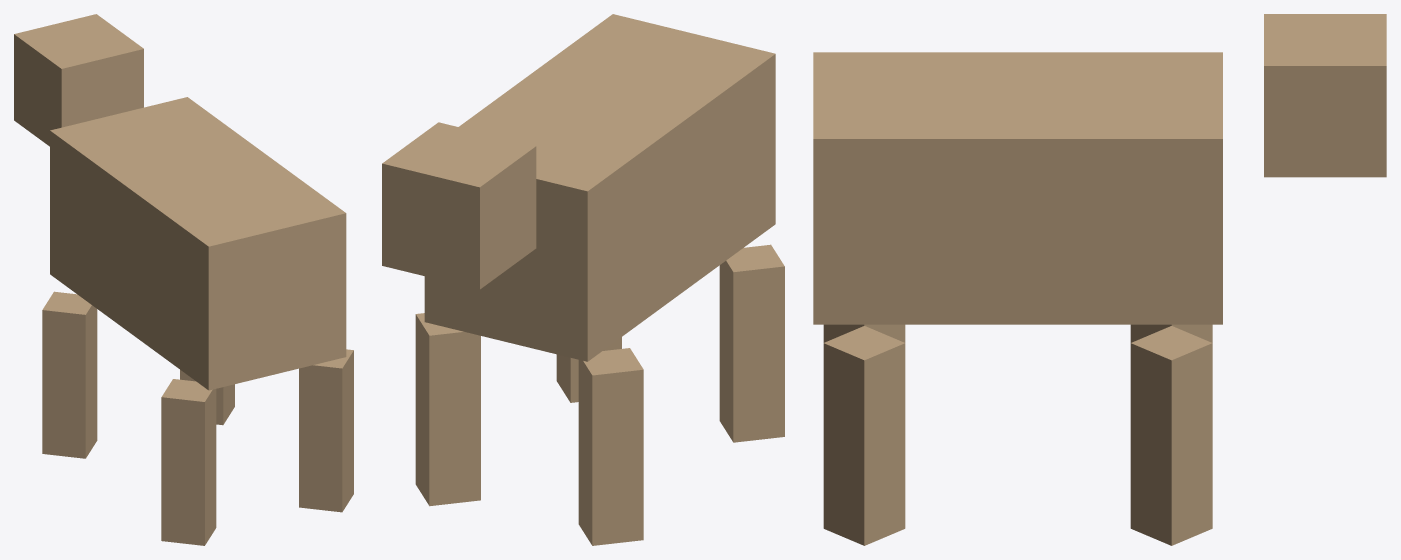
File: cattle.glb
The picture shows the model from 3 angles, left to right: view 1: azimuth 30°, elevation 25°; view 2: azimuth 150°, elevation 25°; view 3: azimuth 270°, elevation 25°; orthographic projection. The views are drawn at different scales.
Visible parts, largest first — view 1: body, head, ll-0.015, ll0.015, lr-0.015, lr0.015; view 2: body, head, ll0.015, ll-0.015, lr0.015, lr-0.015; view 3: body, head, lr0.015, lr-0.015, ll0.015, ll-0.015.
Boxes of the visible parts, box(x1,y1,x2,y2) form: body: box(50, 97, 346, 390); head: box(14, 14, 143, 146); ll-0.015: box(161, 379, 216, 545); ll0.015: box(42, 291, 97, 458); lr-0.015: box(299, 349, 353, 512); lr0.015: box(180, 370, 234, 425); body: box(424, 14, 775, 361); head: box(382, 122, 536, 289); ll0.015: box(578, 348, 643, 545); ll-0.015: box(719, 244, 784, 442); lr0.015: box(415, 313, 480, 506); lr-0.015: box(556, 337, 621, 402); body: box(813, 52, 1222, 324); head: box(1264, 14, 1386, 177); lr0.015: box(1130, 326, 1212, 545); lr-0.015: box(823, 326, 905, 545); ll0.015: box(1130, 324, 1212, 342); ll-0.015: box(823, 324, 905, 342).
Size of the model in its own units: 0.028 by 0.048 by 0.056.
